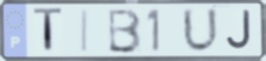1: (145, 8, 161, 54)
B: (107, 7, 144, 55)
I: (80, 8, 90, 54)
J: (224, 8, 254, 52)
T: (32, 6, 65, 56)
U: (181, 6, 221, 55)
